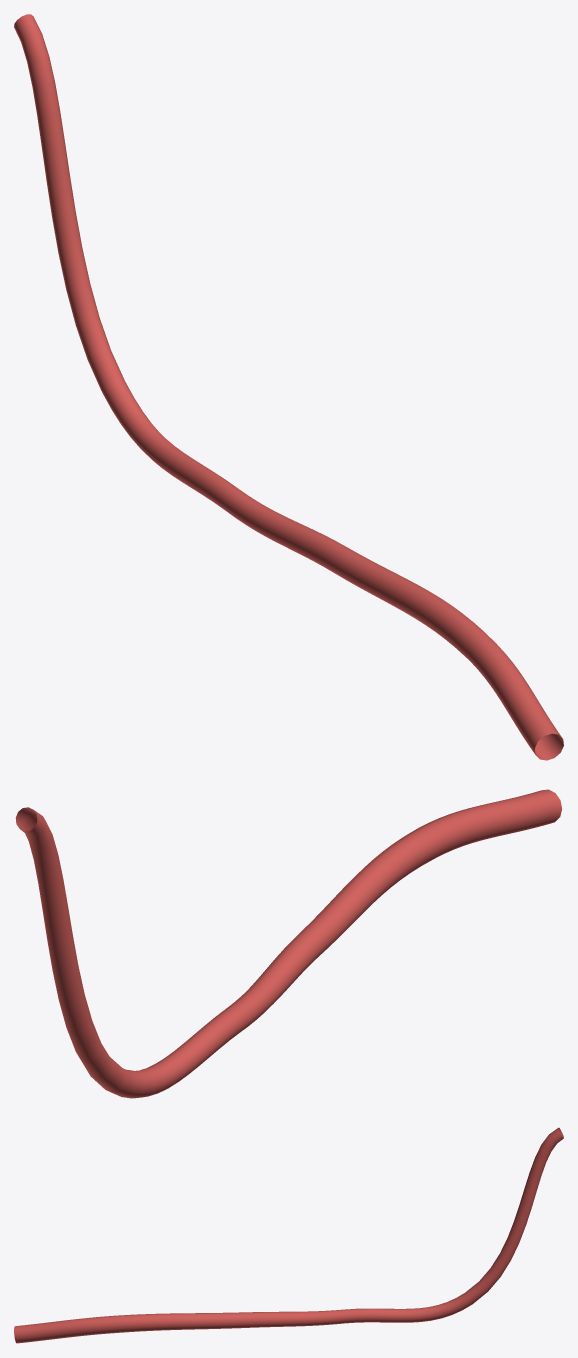
3 views of the same model, one above another, from view 1: azimuth 30°, elevation 25°; view 2: azimuth 150°, elevation 25°; view 3: azimuth 270°, elevation 25° (orthographic). The views are drawn at different scales.
Parts seen in each view (by area): view 1: 右侧尺侧下副动脉; view 2: 右侧尺侧下副动脉; view 3: 右侧尺侧下副动脉.
Part boxes in pixels (bbox=[...]): 右侧尺侧下副动脉: bbox=[14, 14, 563, 760]; 右侧尺侧下副动脉: bbox=[15, 789, 561, 1098]; 右侧尺侧下副动脉: bbox=[14, 1127, 563, 1343].
Size of the model in its own units: 0.00692 by 0.039 by 0.0932.
